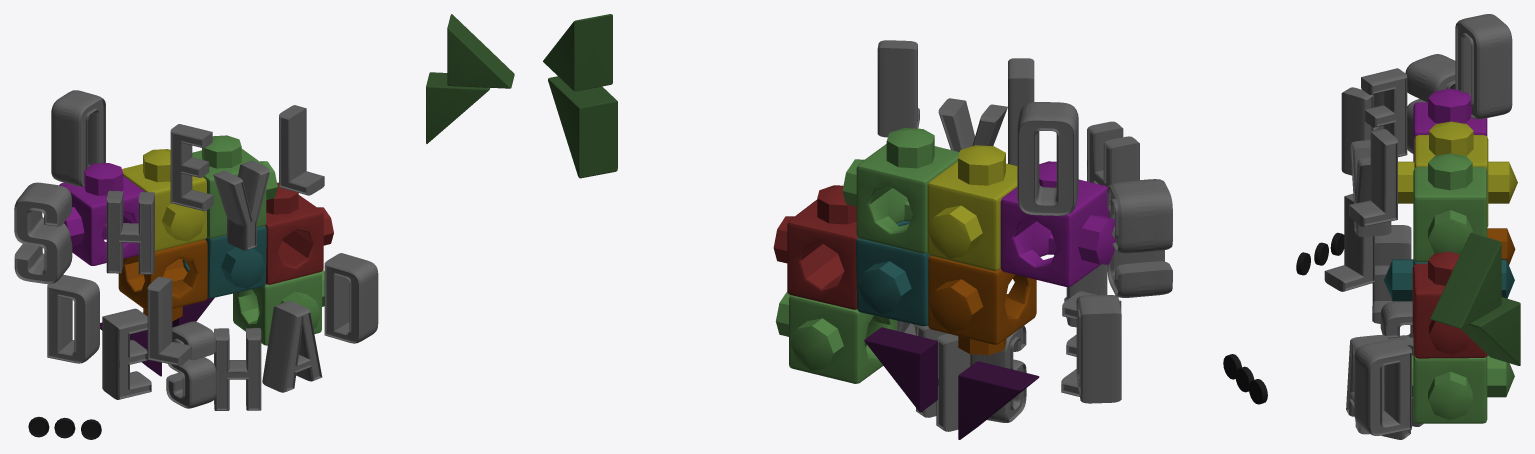
3 views of the same model, side by side, from view 1: azimuth 30°, elevation 25°; view 2: azimuth 150°, elevation 25°; view 3: azimuth 270°, elevation 25° (orthographic). The views are drawn at different scales.
Parts seen in each view (by area): view 1: polySurface1, group1 pCube10, group1 pCube12, polySurface5, polySurface14, polySurface3, group1 pCube1, group1 pCube5, polySurface4, polySurface10, group1 pCube11, polySurface12 (+11 smaller); view 2: group1 pCube12, pCube4 group1, group1 pCube5, group1 pCube1, group1 pCube10, polySurface1, group1 pCube11, polySurface5, group1 pCube3, polySurface3, group1 pCube6, group1 pCube9 (+10 smaller); view 3: pCube4 group1, group1 pCube11, polySurface5, polySurface14, group1 pCube9, group1 pCube5, group1 pCube10, polySurface9, polySurface7, group1 pCube6, polySurface11, group1 pCube12 (+12 smaller).
Part boxes in pixels (x1,y1,x2,y2): polySurface1: (14,182,72,284); group1 pCube10: (265,182,333,284); group1 pCube12: (59,163,144,265); polySurface5: (51,90,105,186); polySurface14: (324,253,378,343); polySurface3: (47,274,99,363); group1 pCube1: (118,239,207,321); group1 pCube5: (122,149,206,251); polySurface4: (262,301,322,392); polySurface10: (102,308,151,399); group1 pCube11: (233,270,324,345); polySurface12: (166,321,216,408); group1 pCube12: (1000,161,1115,286); pCube4 group1: (842,128,959,253); group1 pCube5: (927,145,1017,270); group1 pCube1: (928,255,1036,355); group1 pCube10: (773,185,858,309); polySurface1: (1107,179,1172,297); group1 pCube11: (775,291,897,383); polySurface5: (1017,102,1078,215); group1 pCube3: (856,221,929,326); polySurface3: (1076,295,1121,403); group1 pCube6: (548,76,617,178); group1 pCube9: (543,14,612,91); pCube4 group1: (1413,153,1487,261); group1 pCube11: (1384,342,1514,423); polySurface5: (1455,14,1512,119); polySurface14: (1354,338,1411,435); group1 pCube9: (1430,232,1501,328); group1 pCube5: (1398,121,1517,227); group1 pCube10: (1412,251,1487,358); polySurface9: (1349,129,1397,226); polySurface7: (1361,68,1407,157); group1 pCube6: (1461,297,1520,365); polySurface11: (1324,193,1374,291); group1 pCube12: (1413,88,1487,161).
Size of the model in its own units: 77.07 by 42.4 by 25.32.
